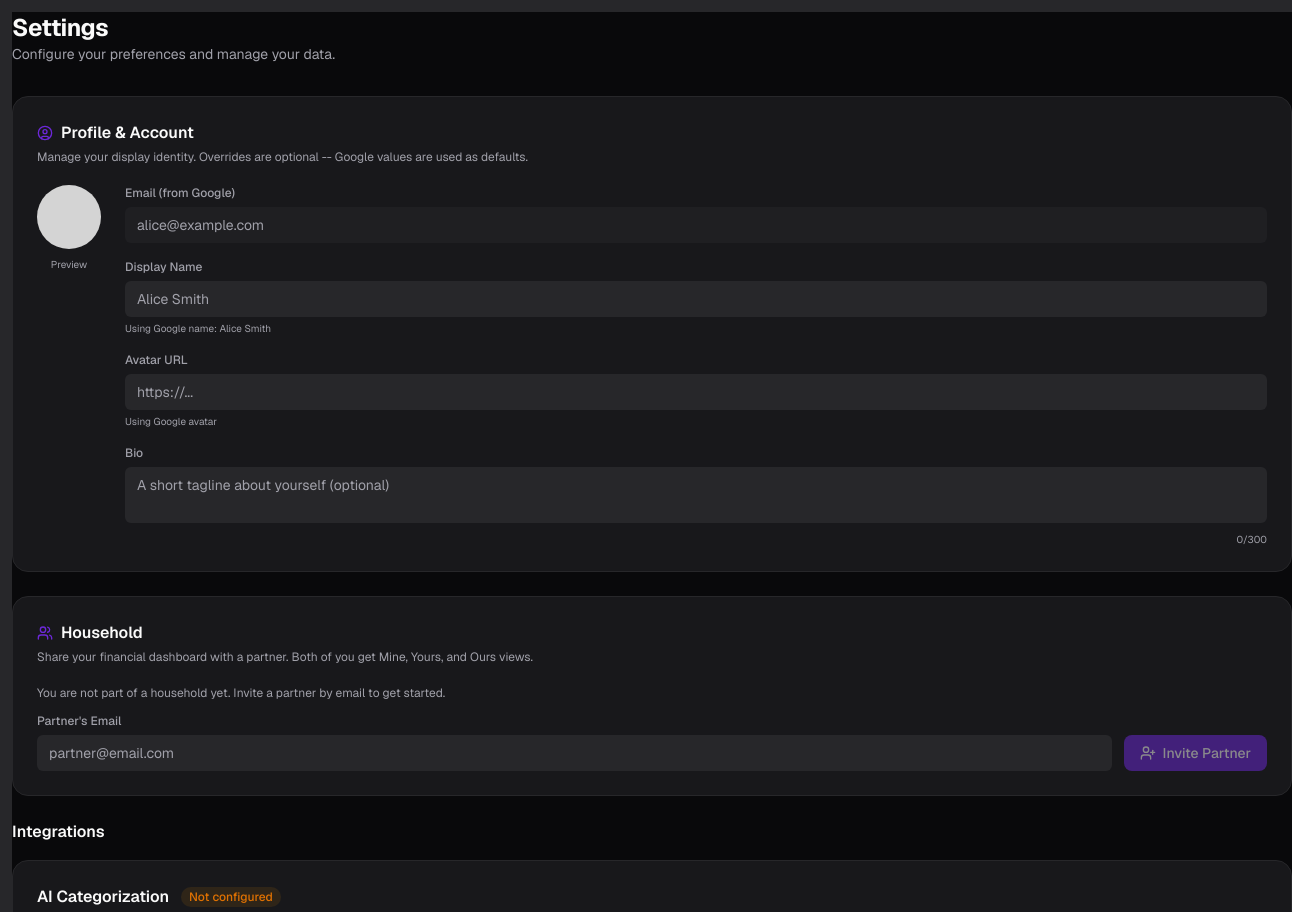
Test: SettingsPage › ProfileSection › shows save button when display name is edited
Type "New Name" into the field with placeholder "Alice Smith".
click(696, 299); type("New Name")  # box [125, 281, 1267, 317]
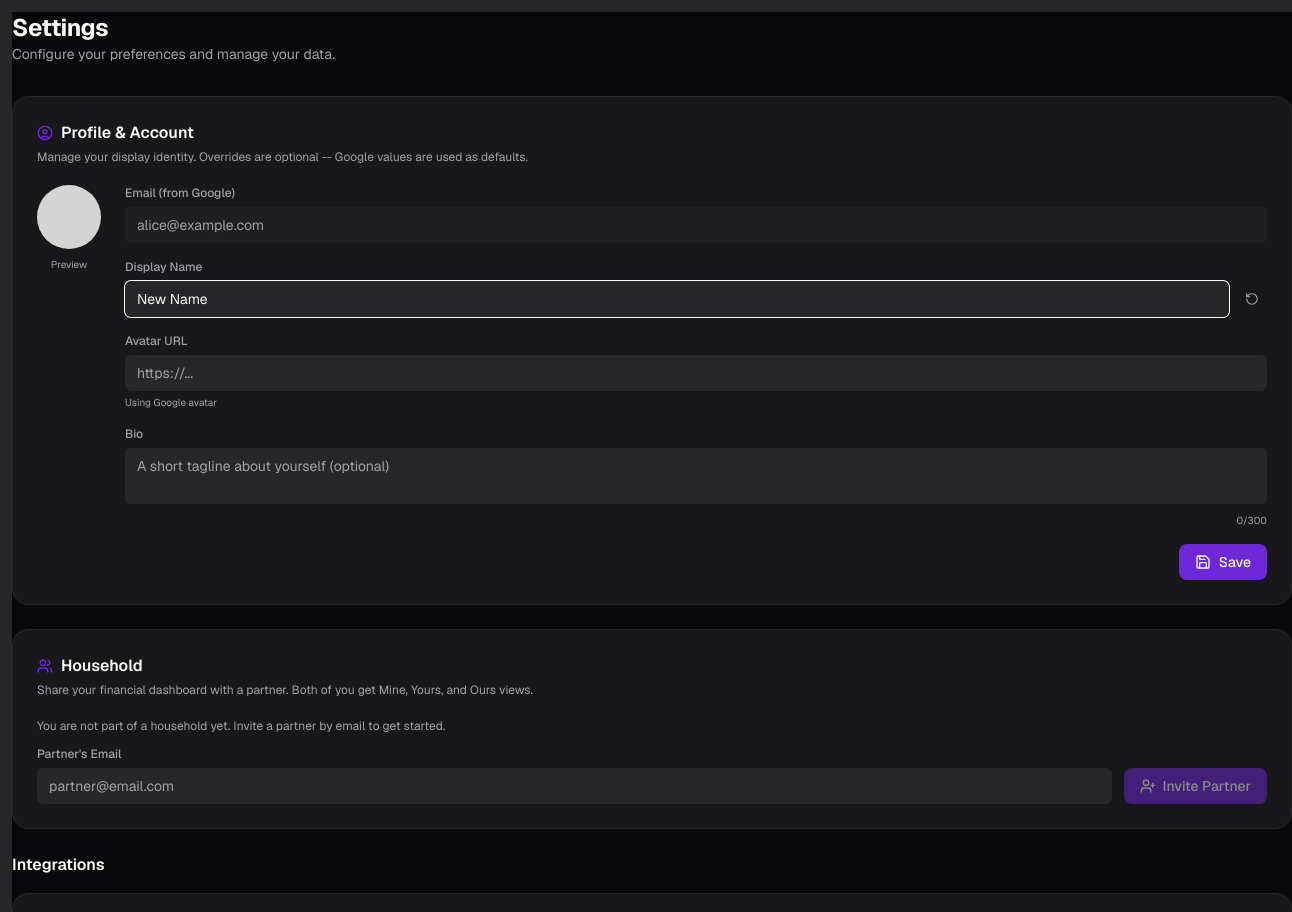
Expected: the button "Save" is shown, [1179, 544, 1267, 580]
